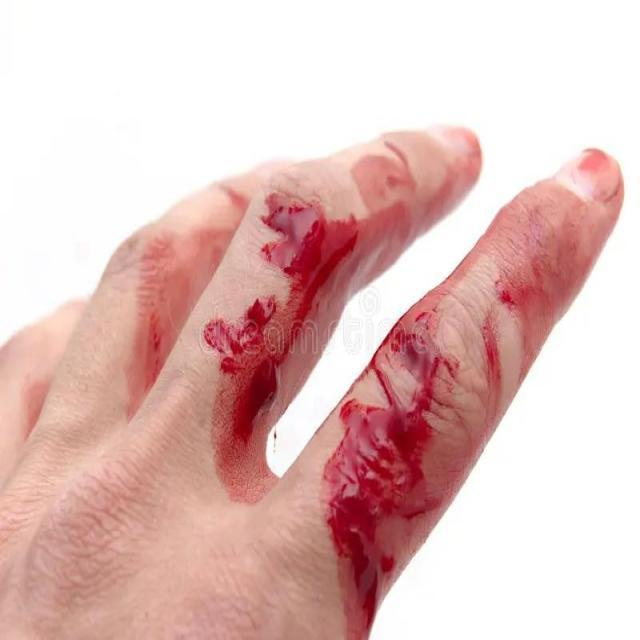flood: (221, 174, 482, 589)
